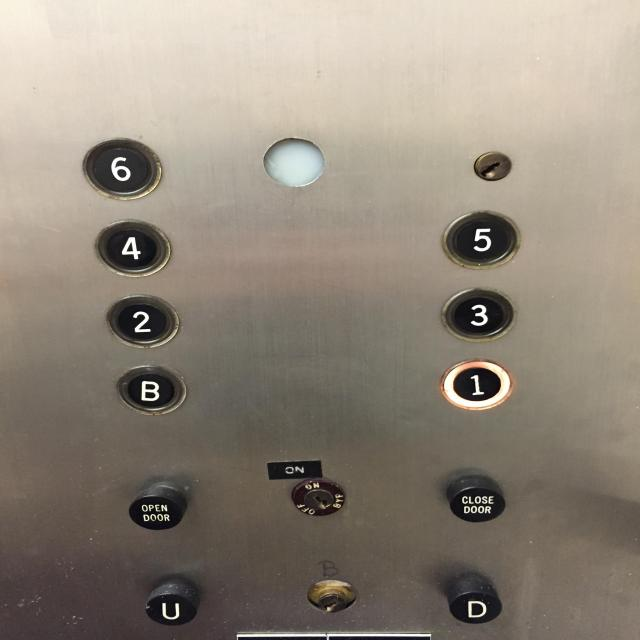1: (440, 356, 515, 411)
2: (105, 291, 180, 347)
3: (440, 286, 516, 342)
4: (94, 219, 172, 277)
5: (441, 211, 520, 268)
6: (81, 136, 162, 200)
B: (115, 362, 186, 415)
D: (446, 577, 502, 623)
U: (144, 584, 198, 625)
empty: (260, 135, 328, 188)
keyhole: (291, 477, 347, 518), (306, 572, 356, 616), (471, 147, 514, 183)
text: (127, 483, 187, 531), (447, 478, 505, 522)
